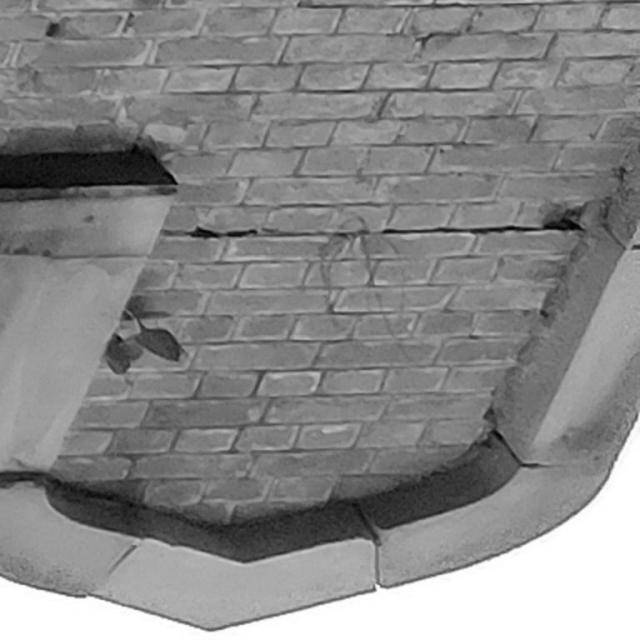crack: (159, 197, 610, 240)
